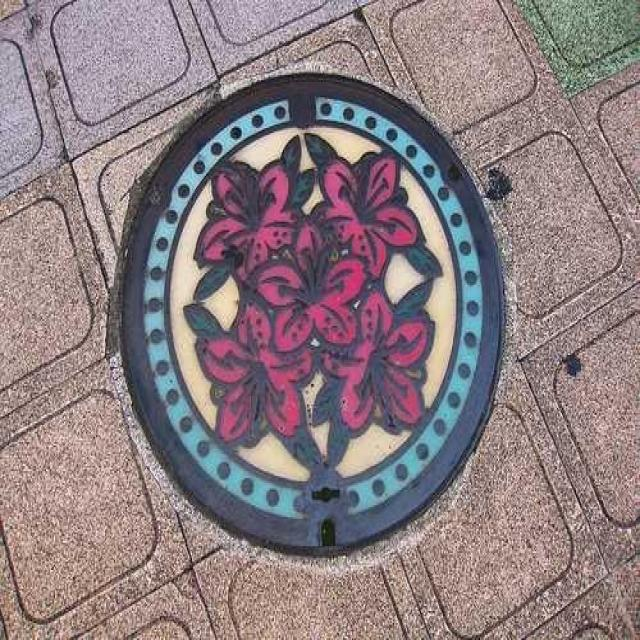manhole: (121, 73, 502, 552)
